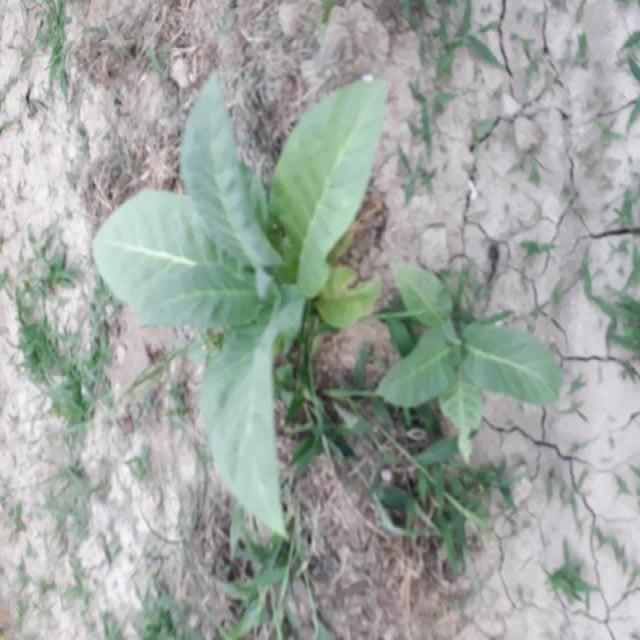crop: (92, 64, 400, 551)
